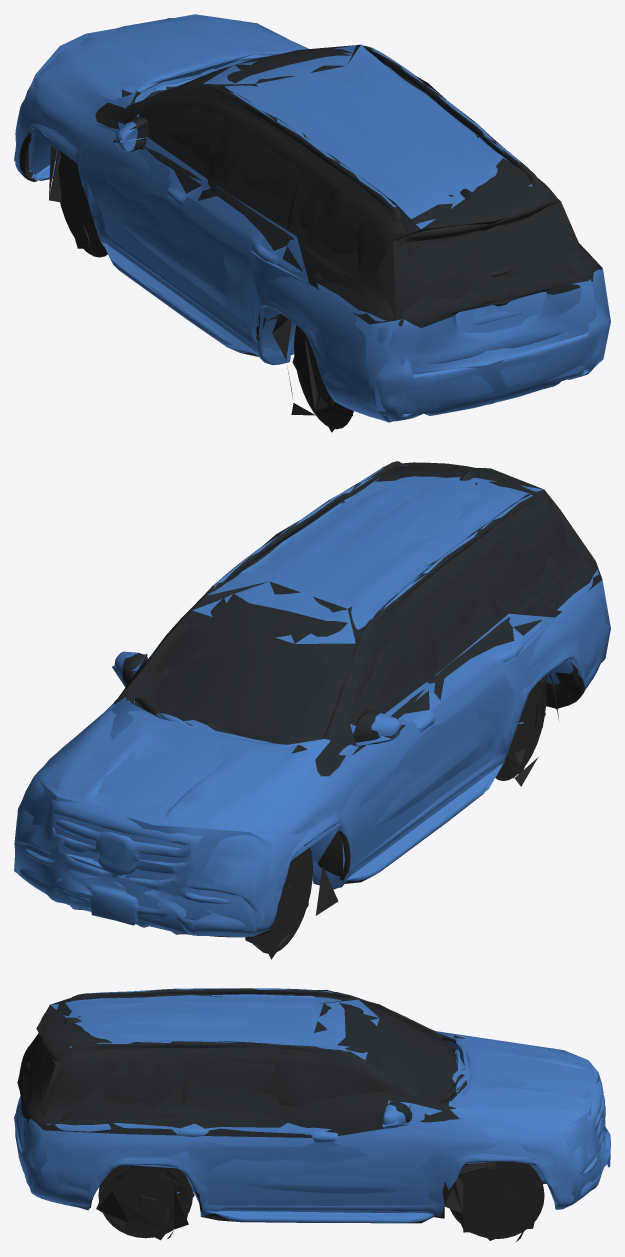
File: mercedes-benz-gls.glb
3 renders of one model, top to bottom at view 1: azimuth 30°, elevation 25°; view 2: azimuth 150°, elevation 25°; view 3: azimuth 270°, elevation 25°, orthographic. The views are drawn at different scales.
Parts seen in each view (by area): view 1: body, far; view 2: body, far; view 3: body, far.
Part boxes in pixels (x1=…): body: x1=15, y1=16, x2=609, y2=429; far: x1=14, y1=14, x2=610, y2=432; body: x1=14, y1=461, x2=609, y2=953; far: x1=14, y1=465, x2=610, y2=959; body: x1=15, y1=988, x2=610, y2=1241; far: x1=14, y1=989, x2=610, y2=1240.
Bounding box in the file's own units: 2.21 × 1.89 × 5.26.
